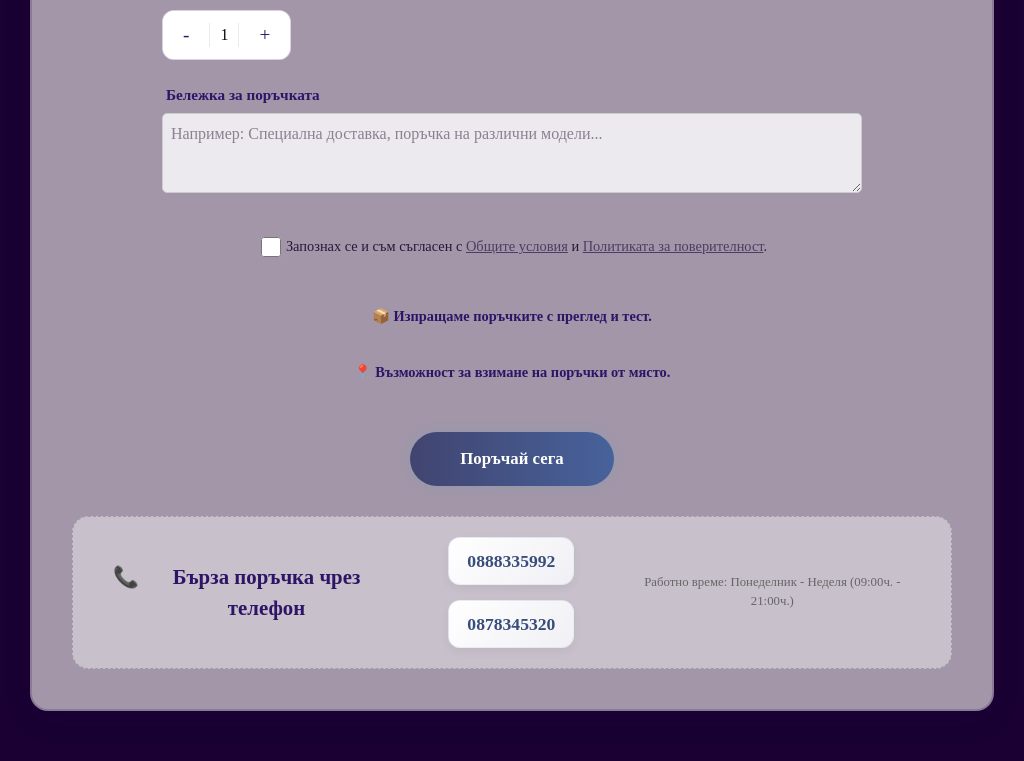
Test: ProductDetails component › shows an error message when trying to order with empty form
This screenshot has width=1024, height=761.
(page scrolled)
Step 1. Click the button "Поръчай сега" → [512, 459], box [410,432,614,486]
(page scrolled)
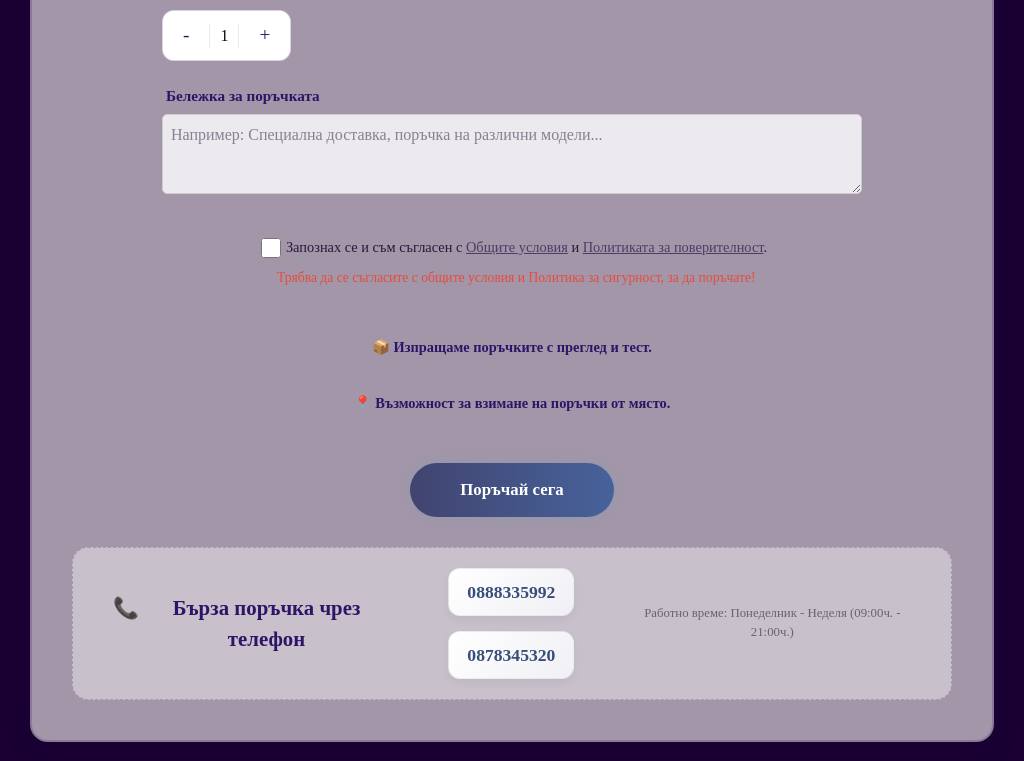
Result: the text "Трябва да се съгласите с общите условия и Политика за сигурност, за да поръчате!" is shown at [277,268,767,288]
